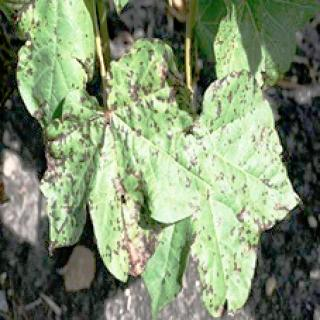blight: (41, 60, 199, 250), (213, 76, 282, 288), (98, 259, 235, 320)
